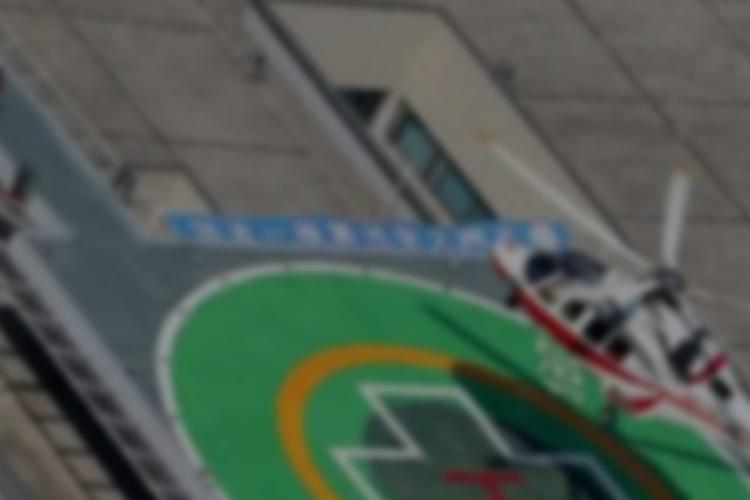Apron: (266, 288, 710, 500)
